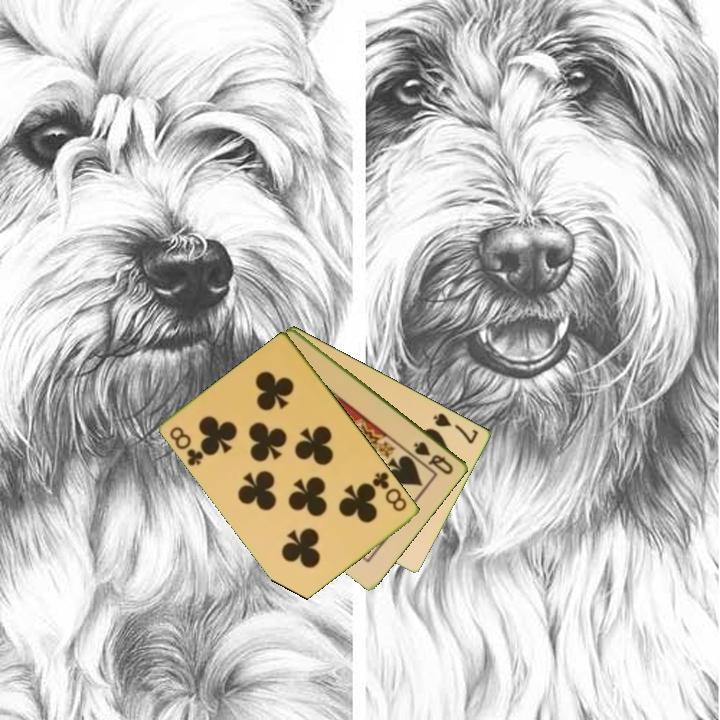7s: (430, 409, 482, 447)
8c: (369, 468, 410, 515), (166, 423, 207, 469)
Qs: (410, 438, 457, 478)
